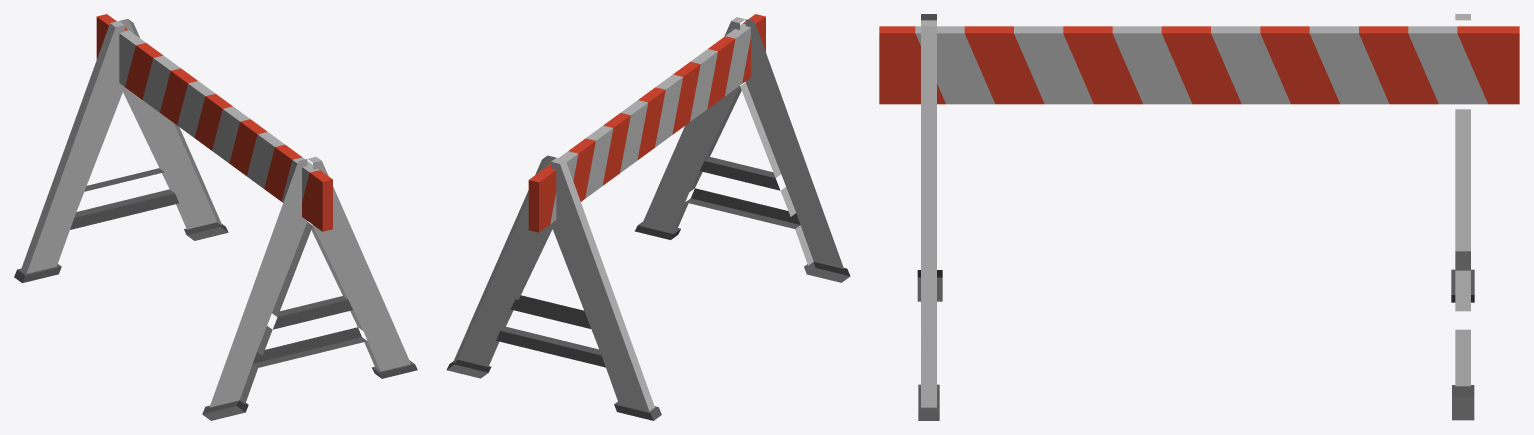
Rendered from ConstructionFence_01.glb.
The picture shows the model from 3 angles, left to right: view 1: azimuth 30°, elevation 25°; view 2: azimuth 150°, elevation 25°; view 3: azimuth 270°, elevation 25°; orthographic projection. The views are drawn at different scales.
Parts seen in each view (by area): view 1: ConstructionFence_01; view 2: ConstructionFence_01; view 3: ConstructionFence_01.
Part boxes in pixels (x1=…): ConstructionFence_01: x1=14, y1=14, x2=417, y2=420; ConstructionFence_01: x1=446, y1=14, x2=850, y2=420; ConstructionFence_01: x1=879, y1=14, x2=1519, y2=420.
Size of what is drawn, in the model's own units: 1.25 by 1.33 by 2.35.
Materials: 1 (1 with a texture image).
